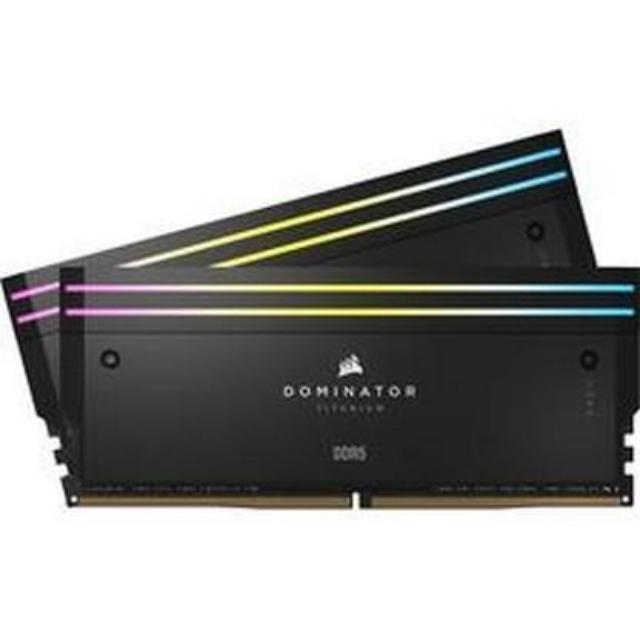RAM: (0, 121, 640, 530)
